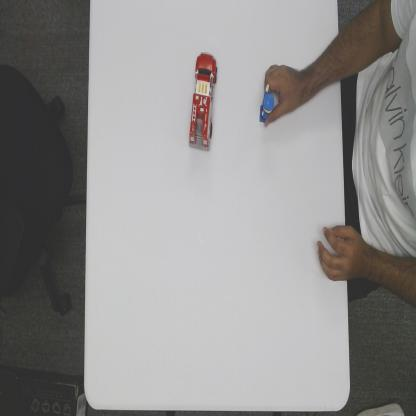Arm: (301, 28, 340, 104)
Firetruck: (189, 50, 218, 152)
Hand: (266, 61, 300, 123)
